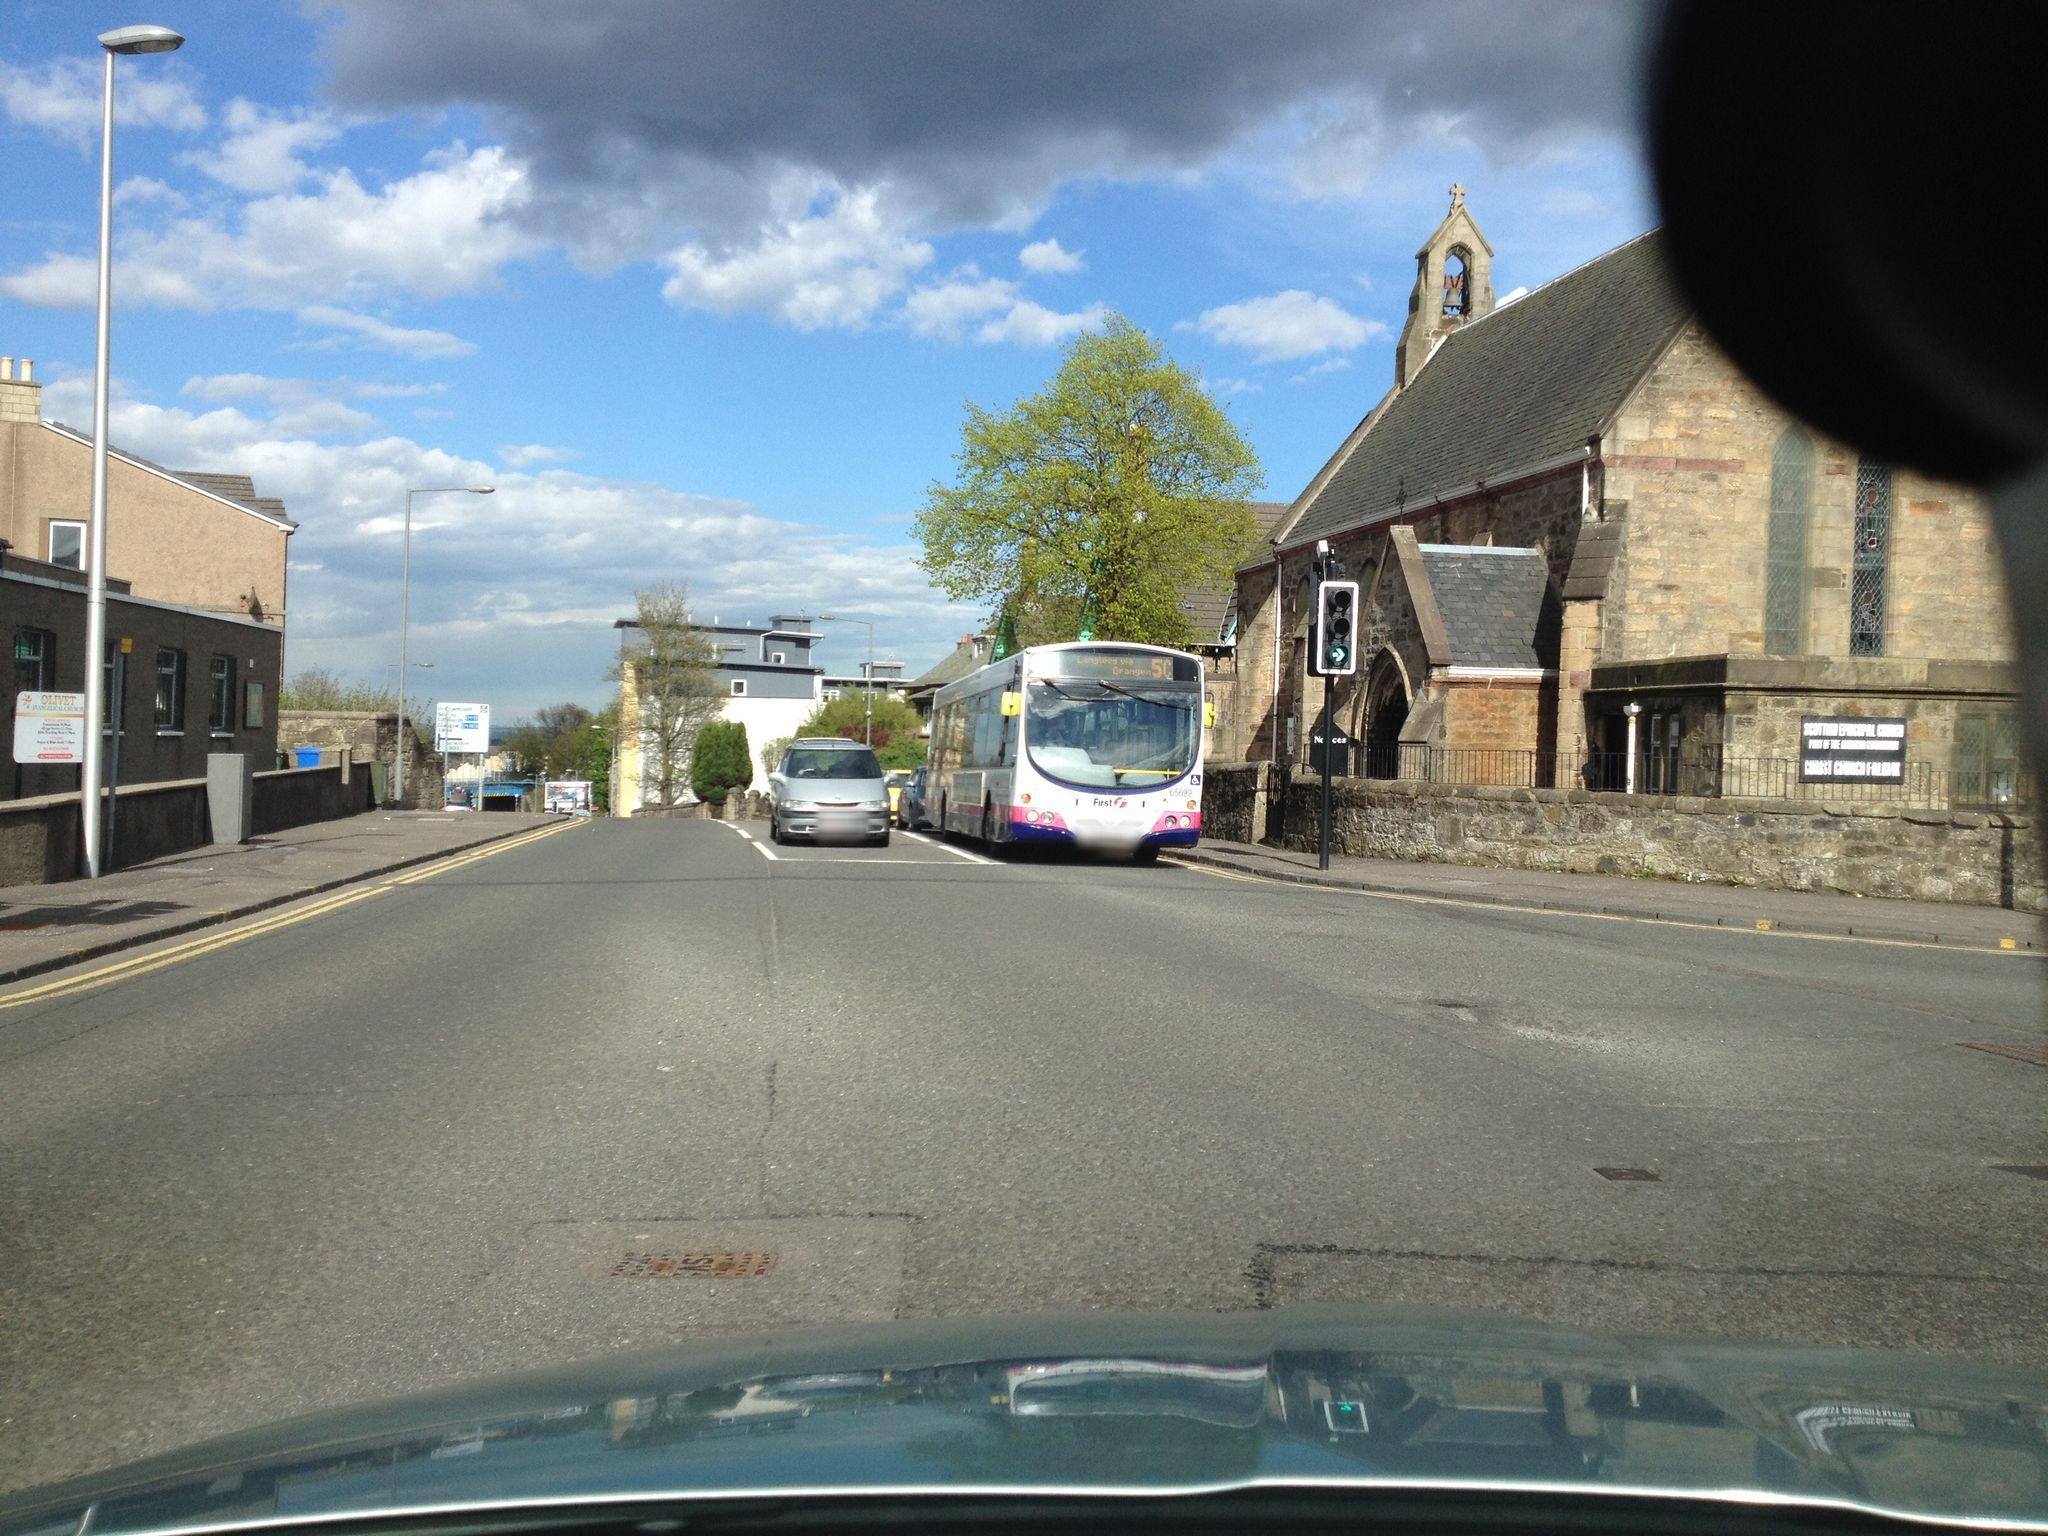bus: (926, 639, 1214, 860)
car: (768, 736, 893, 849), (893, 765, 934, 833), (880, 768, 911, 828)
